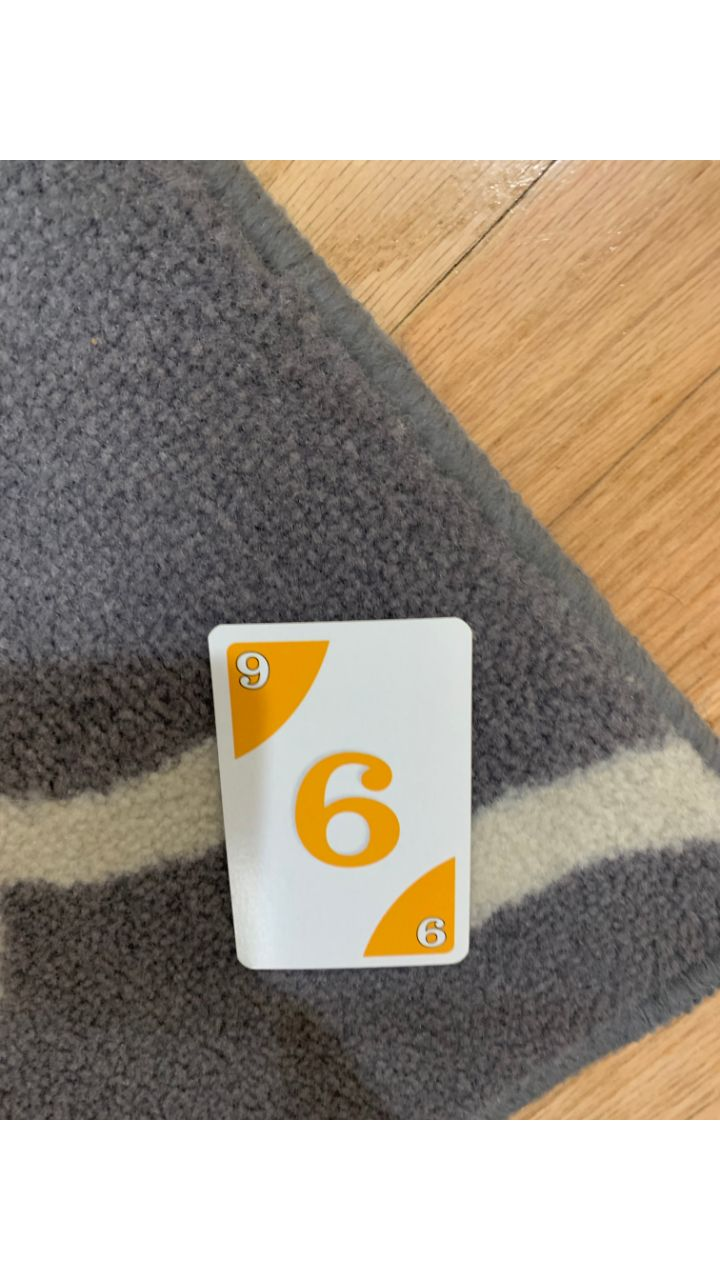six: (201, 613, 478, 975)
